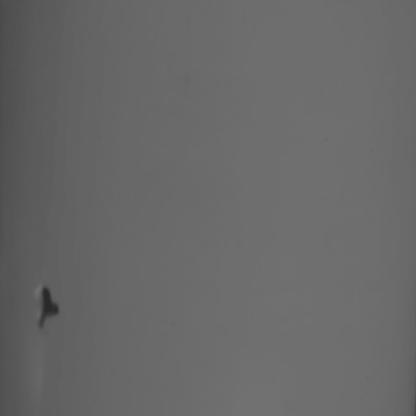kongdong: (28, 281, 95, 348)
